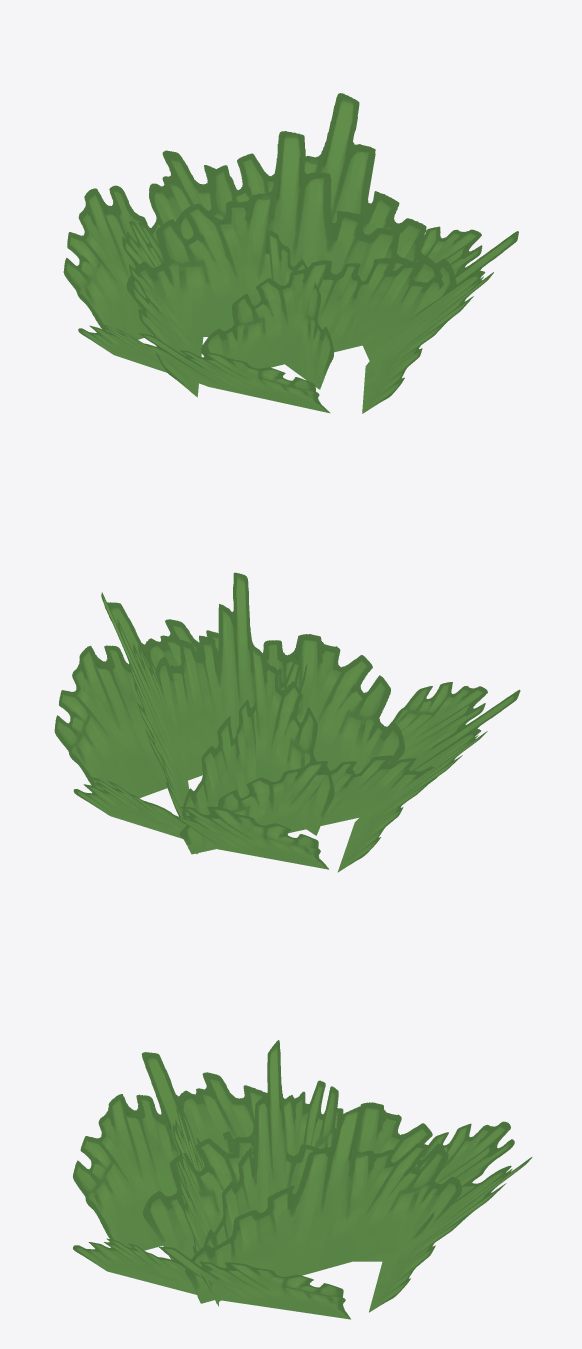
The model's file is sqGrassChunk1.fbx.
The picture shows the model from 3 angles, top to bottom: view 1: azimuth 30°, elevation 25°; view 2: azimuth 150°, elevation 25°; view 3: azimuth 270°, elevation 25°; orthographic projection. The views are drawn at different scales.
Visible parts, largest first — view 1: Plane.010; view 2: Plane.010; view 3: Plane.010.
Part boxes in pixels (x1,y1,x2,y2): Plane.010: (63, 93, 518, 413); Plane.010: (54, 572, 520, 872); Plane.010: (73, 1040, 532, 1319).
Size of the model in its own units: 146 by 82.22 by 147.
Materials: 1 (1 with a texture image).
